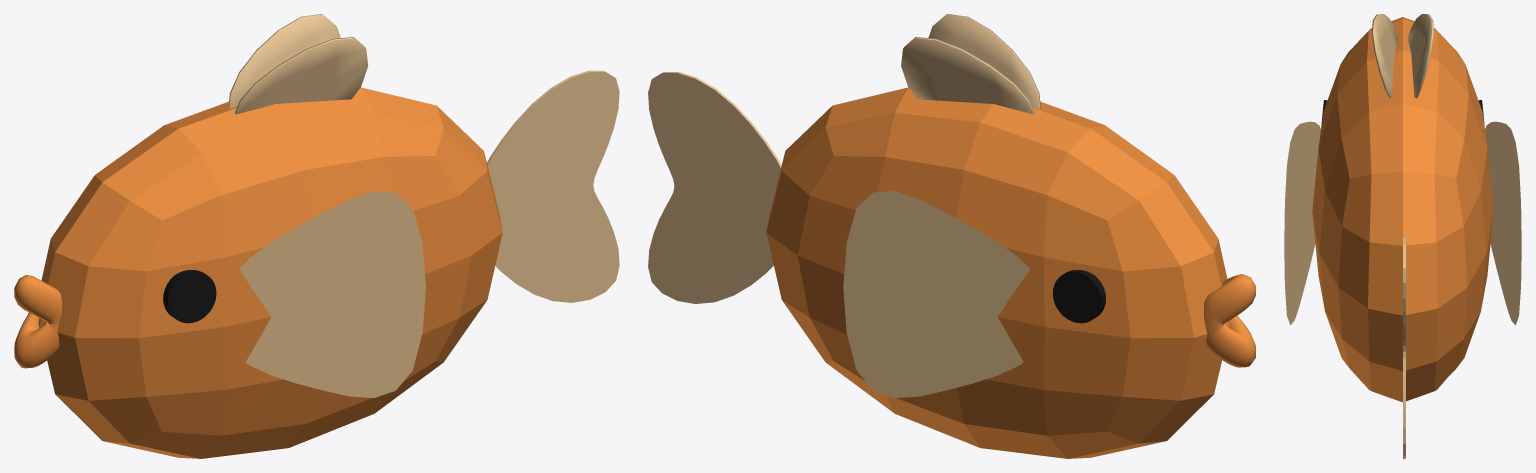
Rendered from Fish.fbx.
3 renders of one model, left to right at view 1: azimuth 30°, elevation 25°; view 2: azimuth 150°, elevation 25°; view 3: azimuth 270°, elevation 25°, orthographic. The views are drawn at different scales.
Visible parts, largest first — view 1: Torus.003; view 2: Torus.003; view 3: Torus.003.
Part boxes in pixels (left/top/right/bottom): Torus.003: left=14, top=14, right=619, bottom=458; Torus.003: left=648, top=14, right=1255, bottom=458; Torus.003: left=1284, top=14, right=1521, bottom=458.
Size of the model in its own units: 87.79 by 56.39 by 32.33.
